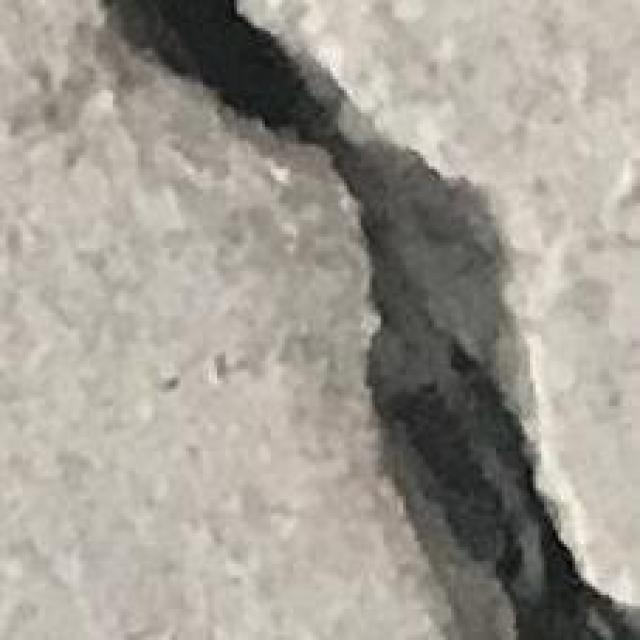Crack: (98, 3, 640, 640)
